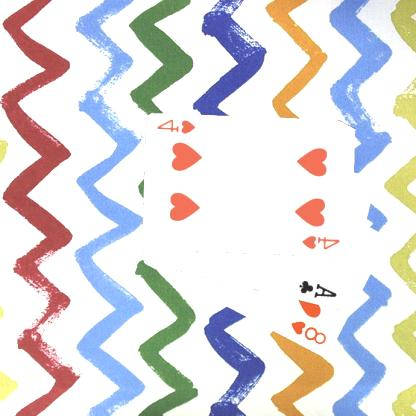4H: (156, 117, 199, 136), (301, 233, 343, 251)
8H: (289, 318, 330, 347)
AC: (298, 278, 340, 300)
